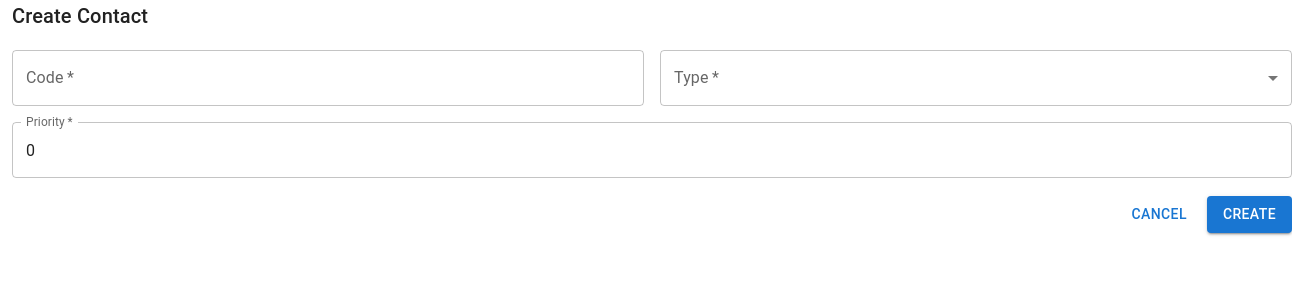
Test: WorkbenchRecordForm › blocks an incomplete draft before it reaches the backend
Click the button "Create". click: [1249, 214]
box: [1207,196,1292,232]
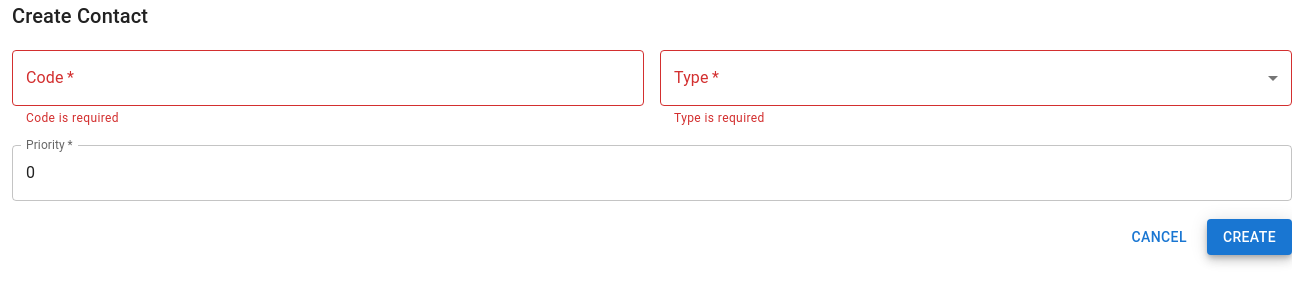
Now the text "Code is required" is shown, box [26,111,119,125]
Now the text "Type is required" is shown, box [674,111,765,125]
